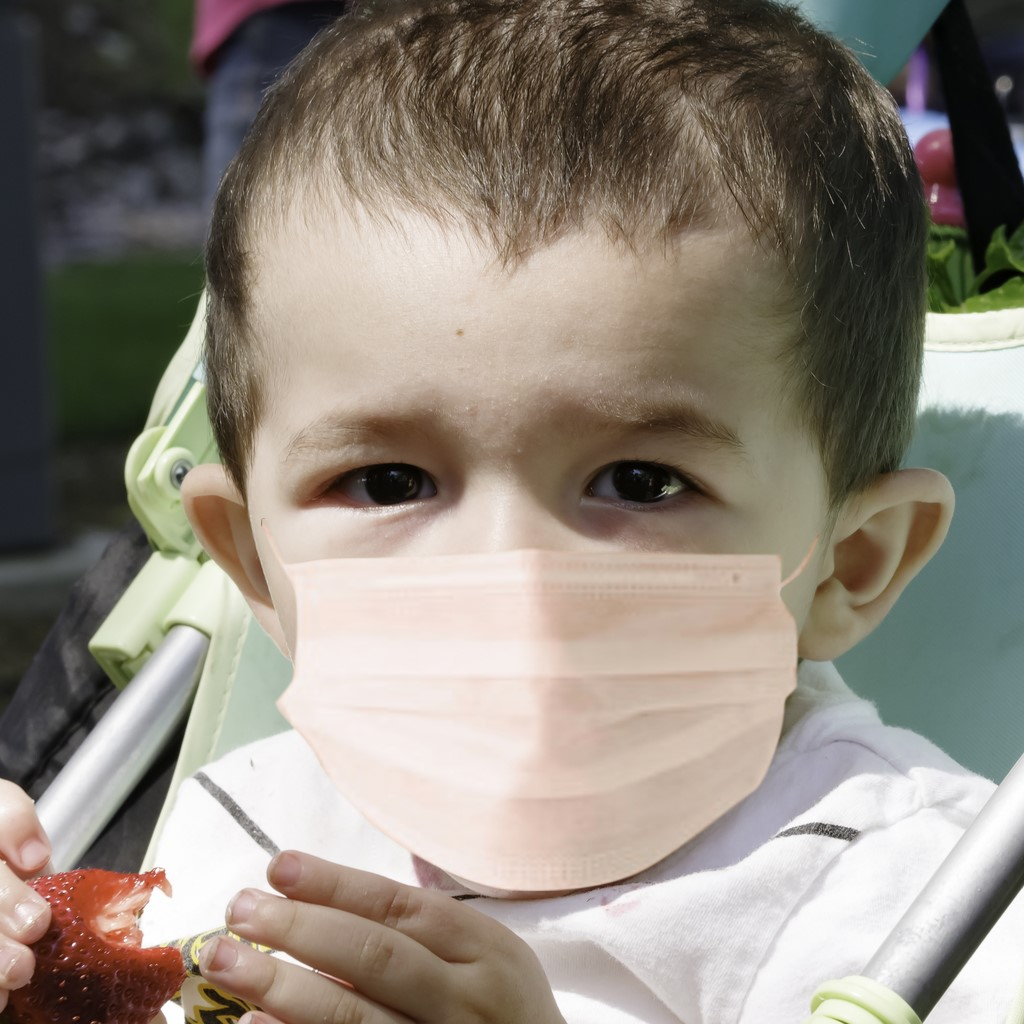con_mascara: (243, 131, 833, 862)
